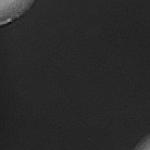colony: (0, 0, 49, 34), (121, 119, 150, 150)
